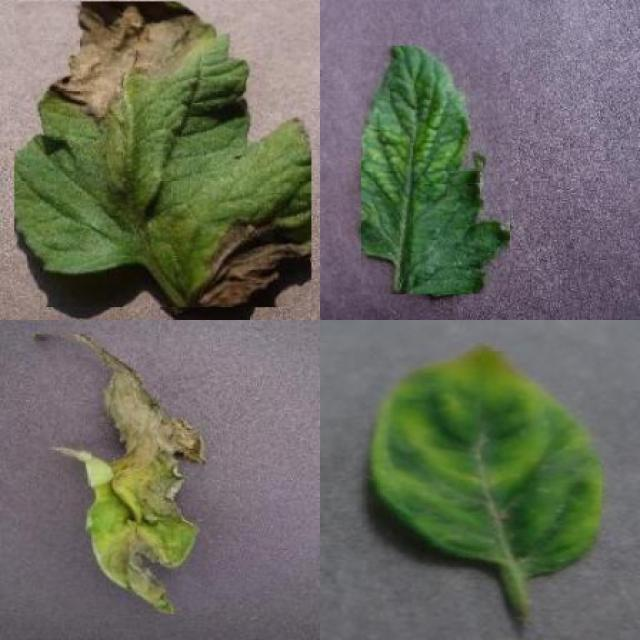Late Blight: (15, 2, 311, 308), (35, 335, 208, 615)
Mosaic Virus: (360, 46, 510, 294)
Yellow Leaf Curl Virus: (370, 344, 601, 572)
